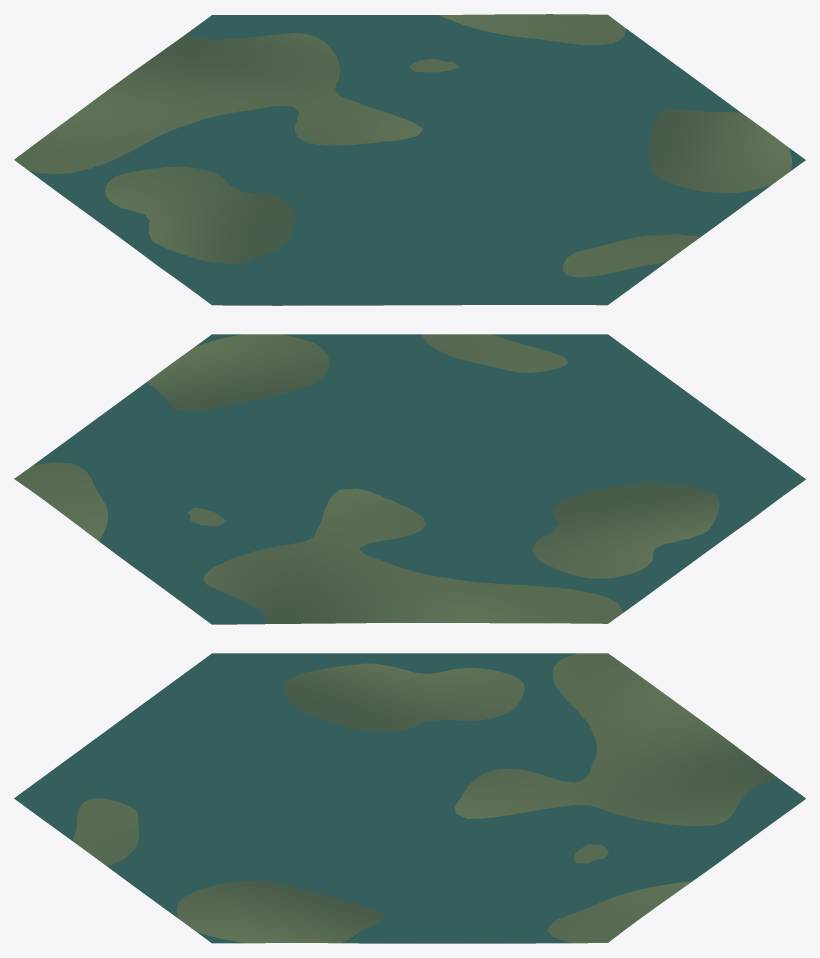
The picture shows the model from 3 angles, top to bottom: view 1: azimuth 30°, elevation 25°; view 2: azimuth 150°, elevation 25°; view 3: azimuth 270°, elevation 25°; orthographic projection.
Visible parts, largest first — view 1: Lâmina estática PT_+3_13, PT_+3_13; view 2: Lâmina estática PT_+3_13, PT_+3_13; view 3: Lâmina estática PT_+3_13, PT_+3_13.
Boxes of the visible parts, x1,y1,x2,y2 form: Lâmina estática PT_+3_13: [29, 15, 805, 304]; PT_+3_13: [14, 14, 805, 305]; Lâmina estática PT_+3_13: [33, 334, 805, 623]; PT_+3_13: [14, 334, 805, 624]; Lâmina estática PT_+3_13: [14, 653, 805, 943]; PT_+3_13: [14, 653, 805, 943].
Size of the model in its own units: 4330 by 17.96 by 5000.
